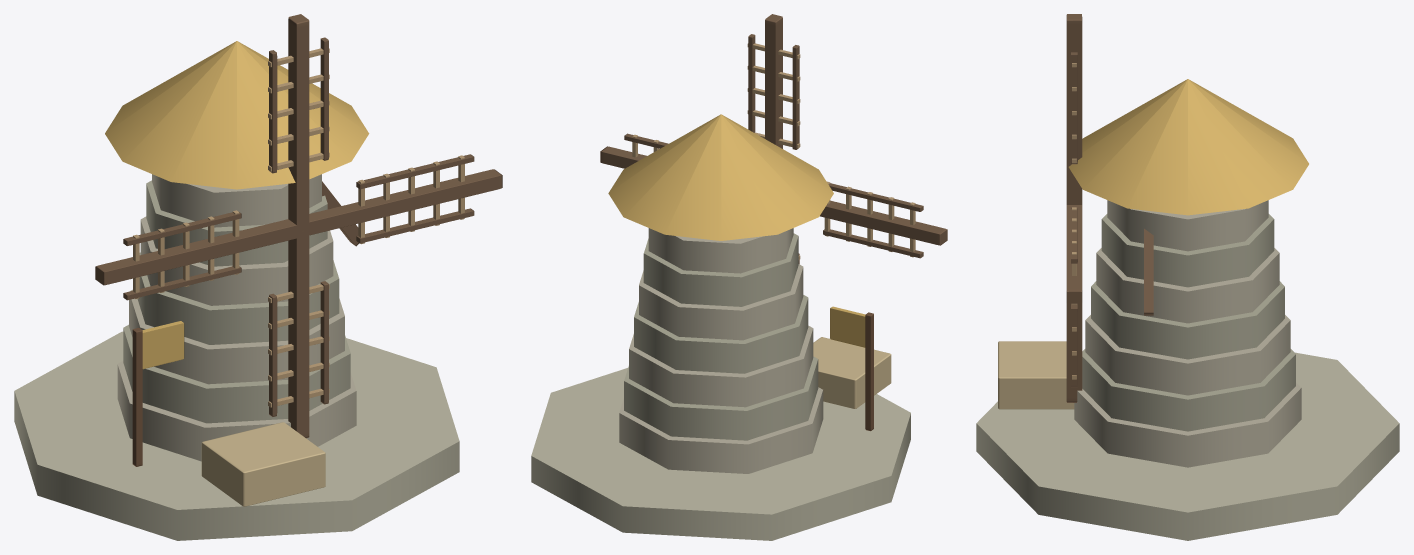
The model's file is oldmill-3.glb.
3 renders of one model, left to right at view 1: azimuth 30°, elevation 25°; view 2: azimuth 150°, elevation 25°; view 3: azimuth 270°, elevation 25°, orthographic. The views are drawn at different scales.
Parts seen in each view (by area): view 1: oldmill-3-0, landmark-fan, landmark-restored, landmark-ruin; view 2: oldmill-3-0, landmark-restored, landmark-fan, landmark-ruin; view 3: oldmill-3-0, landmark-restored, landmark-fan, landmark-ruin.
Part boxes in pixels (x1,y1,x2,y2): oldmill-3-0: (14,174,459,540); landmark-fan: (95,14,502,438); landmark-restored: (105,41,369,466); landmark-ruin: (201,181,359,506); oldmill-3-0: (531,228,910,540); landmark-restored: (608,114,873,431); landmark-fan: (600,14,947,264); landmark-ruin: (813,337,891,408); oldmill-3-0: (976,200,1399,540); landmark-restored: (1068,79,1308,215); landmark-fan: (1066,14,1082,402); landmark-ruin: (998,228,1153,409).
Bounding box in the file's own units: 2.16 × 2.45 × 2.16.
